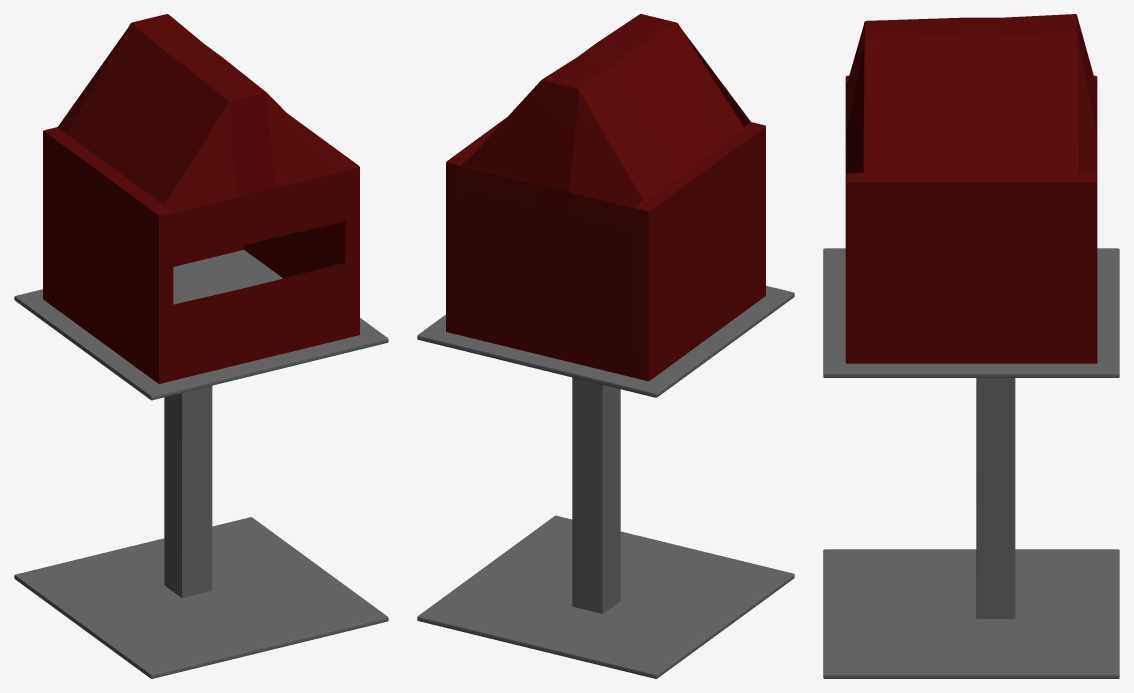
File: Mail box 001.fbx
3 views of the same model, side by side, from view 1: azimuth 30°, elevation 25°; view 2: azimuth 150°, elevation 25°; view 3: azimuth 270°, elevation 25° (orthographic). The views are drawn at different scales.
Visible parts, largest first — view 1: polySurface1, polySurface4, polySurface2, polySurface3; view 2: polySurface1, polySurface4, polySurface3, polySurface2; view 3: polySurface1, polySurface4, polySurface2, polySurface3.
Part boxes in pixels (x1,y1,x2,y2): polySurface1: (43, 14, 359, 383); polySurface4: (14, 517, 388, 678); polySurface2: (14, 250, 388, 400); polySurface3: (164, 386, 212, 597); polySurface1: (446, 14, 765, 381); polySurface4: (417, 515, 794, 678); polySurface3: (572, 377, 620, 613); polySurface2: (417, 285, 794, 397); polySurface1: (845, 14, 1097, 363); polySurface4: (823, 549, 1119, 678); polySurface2: (823, 248, 1119, 377); polySurface3: (976, 378, 1015, 618).
Bounding box in the file's own units: 12.28 × 27.3 × 12.28.
